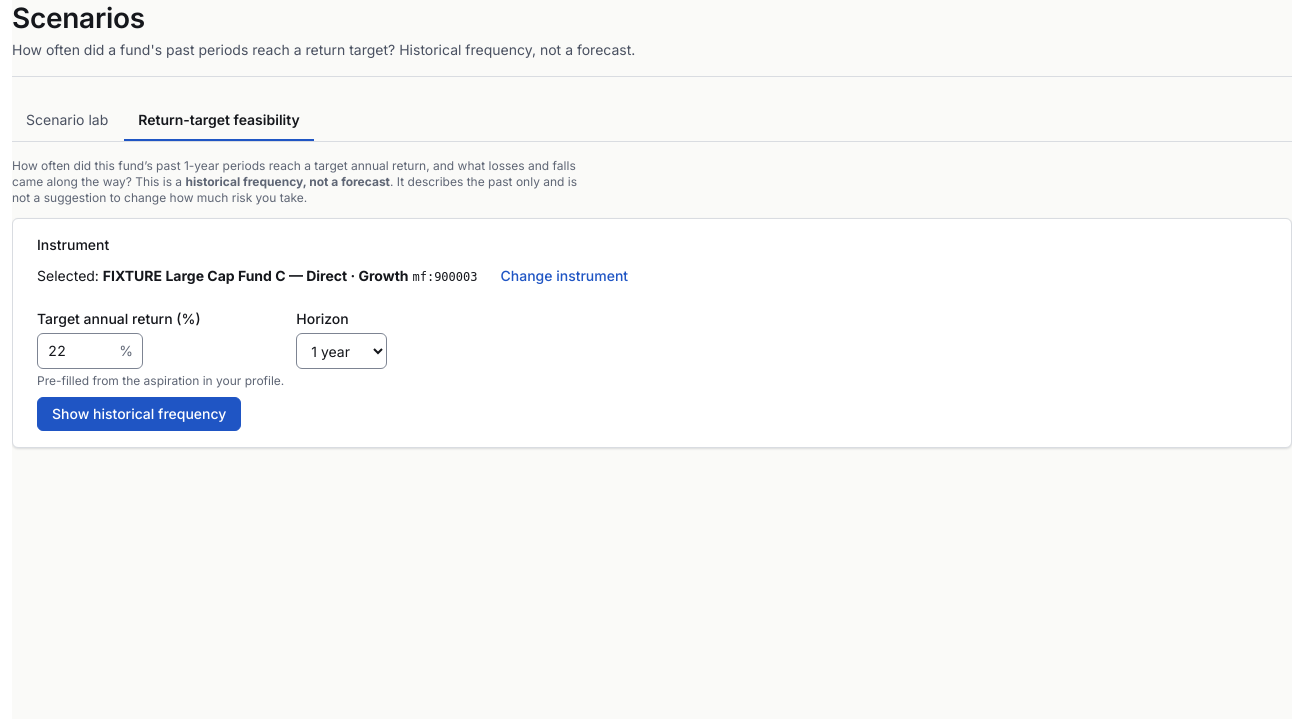
Return-target feasibility › pre-fills the target from the profile aspiration and sends target_annual as a fraction string
Check: the field labelled "Target annual return (%)" holds "22", box [37,333,143,369]
Check: the text "Pre-filled from the aspiration in your profile." is shown, box [37,373,284,389]
Click the button "Show historical frequency".
click(139, 414)  # box [37,397,241,431]
(page scrolled)
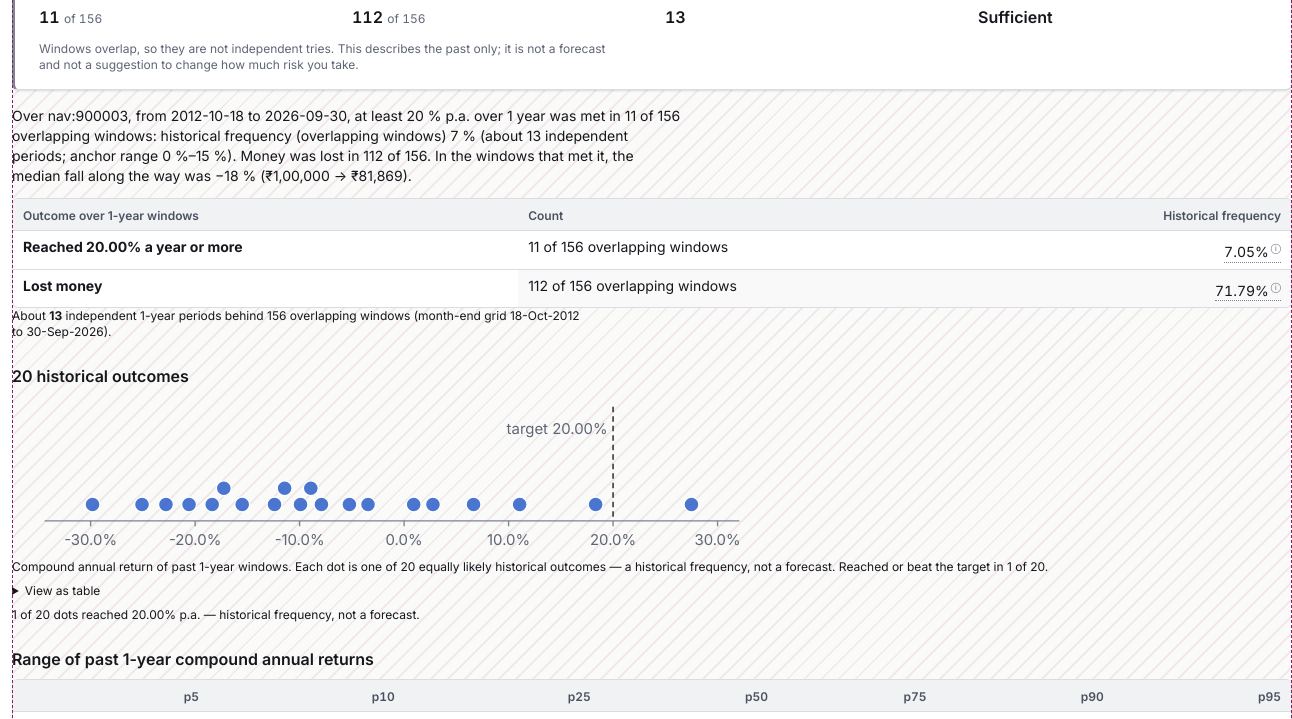
Check: the heading "20 historical outcomes" is shown, box [12,366,189,386]
